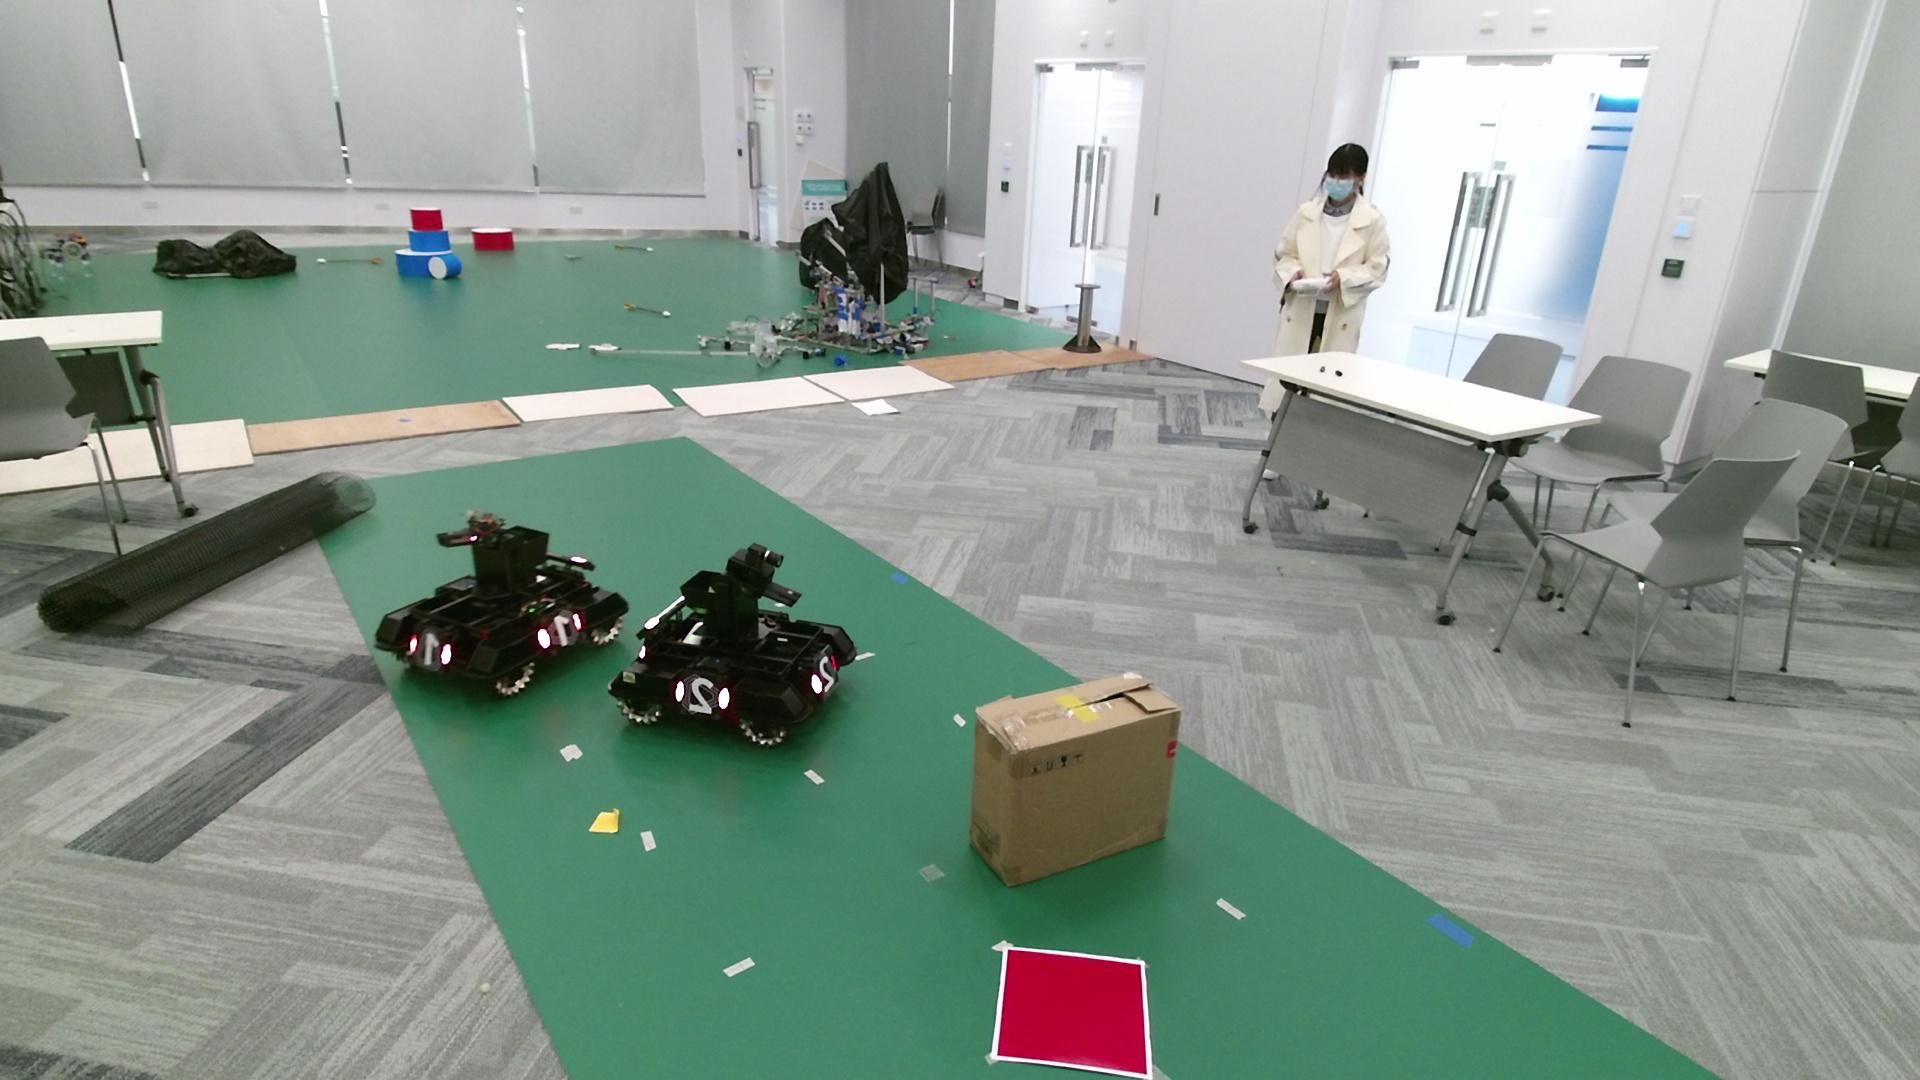robot: (607, 541, 858, 748), (375, 506, 630, 700)
